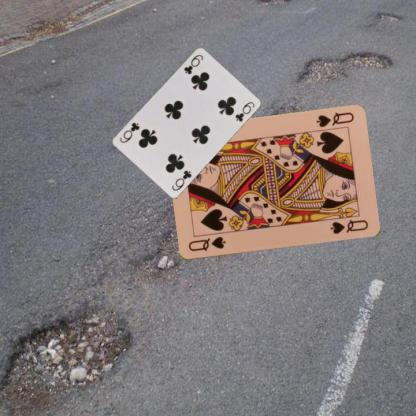6c: (169, 167, 193, 192), (182, 51, 204, 76)
Qs: (313, 110, 355, 129), (186, 234, 226, 253)
